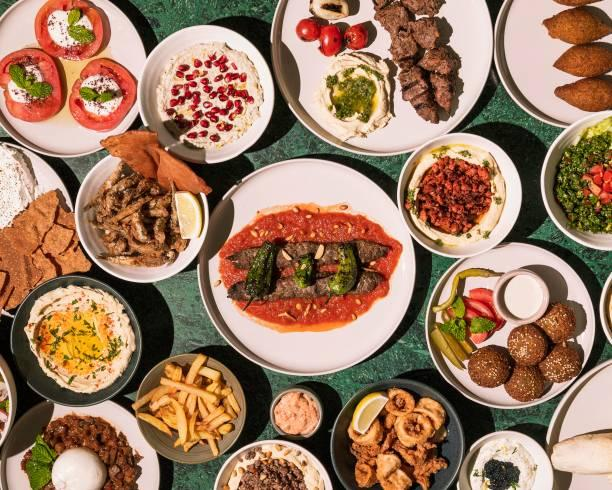Braised Crucian Carp: (200, 157, 415, 370), (271, 1, 486, 156), (425, 242, 593, 405), (1, 1, 147, 158), (139, 23, 273, 163), (10, 273, 144, 403), (74, 152, 203, 281), (397, 132, 518, 257), (329, 378, 465, 489), (496, 1, 610, 128), (2, 398, 160, 487), (135, 353, 246, 464), (539, 109, 611, 249)
